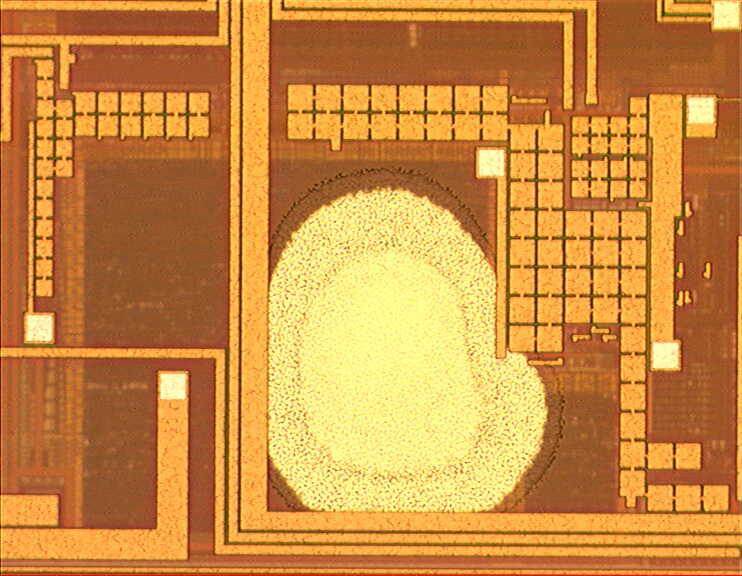BLOCK ETCH: (257, 163, 569, 521)
